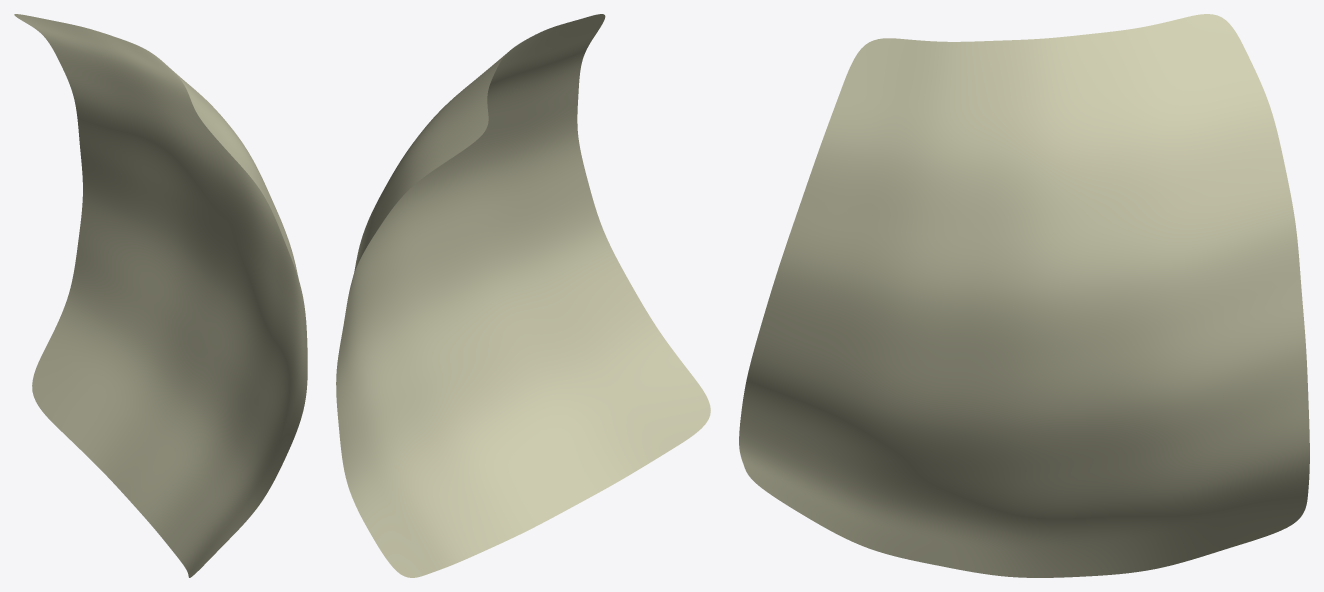
The model's file is zeil.fbx.
The picture shows the model from 3 angles, left to right: view 1: azimuth 30°, elevation 25°; view 2: azimuth 150°, elevation 25°; view 3: azimuth 270°, elevation 25°; orthographic projection. The views are drawn at different scales.
Visible parts, largest first — view 1: Plane; view 2: Plane; view 3: Plane.
Boxes of the visible parts, bbox=[...] form: Plane: bbox=[14, 14, 307, 577]; Plane: bbox=[336, 14, 710, 577]; Plane: bbox=[739, 14, 1309, 577].
Size of the model in its own units: 9.29 by 23.29 by 22.21.
